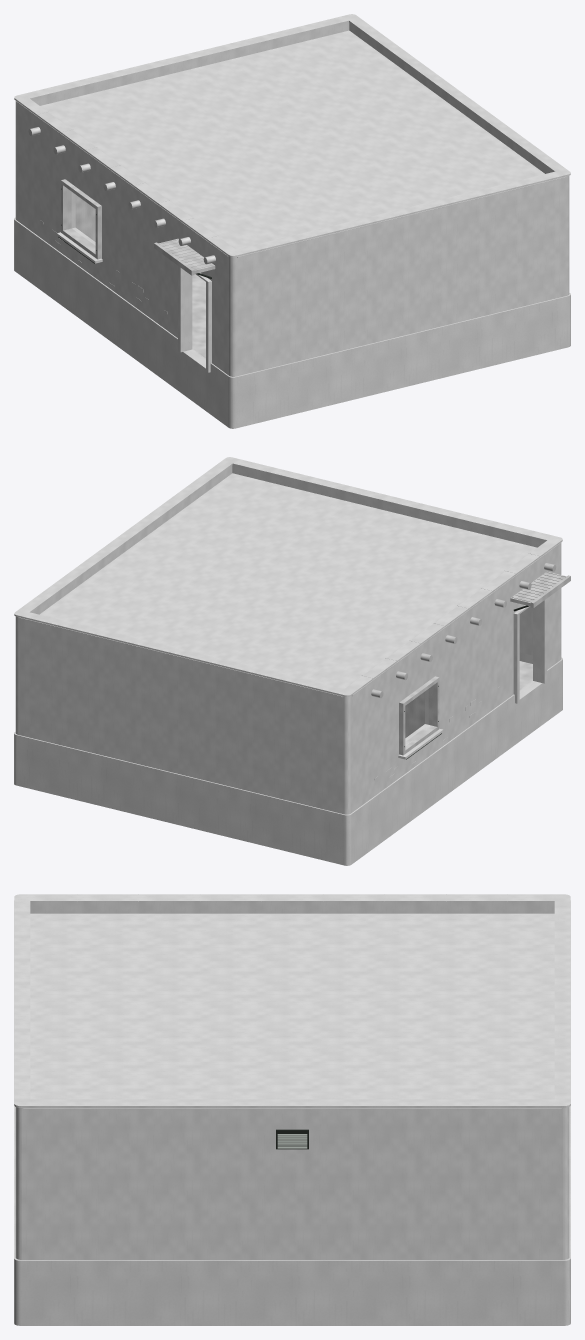
3 renders of one model, top to bottom at view 1: azimuth 30°, elevation 25°; view 2: azimuth 150°, elevation 25°; view 3: azimuth 270°, elevation 25°, orthographic. The views are drawn at different scales.
Visible parts, largest first — view 1: SM_Homes_H01_Shell, SM_Homes_H01_Roof, SM_Homes_H01_Fixtures; view 2: SM_Homes_H01_Shell, SM_Homes_H01_Roof, SM_Homes_H01_Fixtures; view 3: SM_Homes_H01_Roof, SM_Homes_H01_Shell, SM_Homes_H01_Fixtures.
Boxes of the visible parts, x1,y1,x2,y2 form: SM_Homes_H01_Shell: (14, 110, 570, 428); SM_Homes_H01_Roof: (14, 14, 570, 267); SM_Homes_H01_Fixtures: (40, 179, 215, 372); SM_Homes_H01_Shell: (14, 551, 562, 865); SM_Homes_H01_Roof: (14, 457, 562, 706); SM_Homes_H01_Fixtures: (374, 571, 570, 780); SM_Homes_H01_Roof: (14, 894, 570, 1120); SM_Homes_H01_Shell: (14, 1105, 570, 1325); SM_Homes_H01_Fixtures: (276, 1129, 308, 1149).
Size of the model in its own units: 9.71 by 4.38 by 10.06.
Materials: 10 (8 with a texture image).
